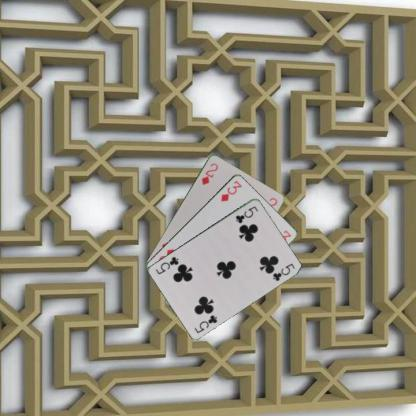2d: (199, 161, 219, 186)
3d: (218, 177, 242, 203)
5c: (192, 312, 218, 334), (233, 203, 259, 224)
